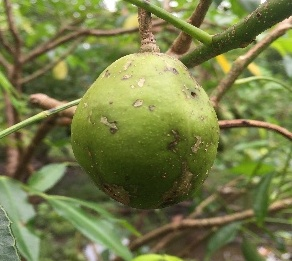Coc: (65, 47, 226, 214)
